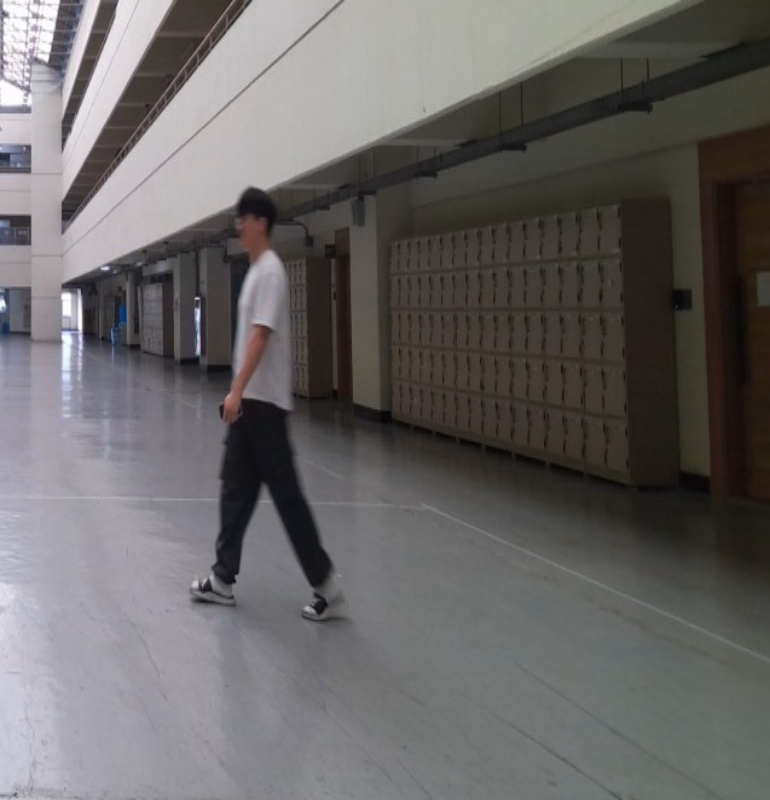person: (189, 186, 351, 623)
